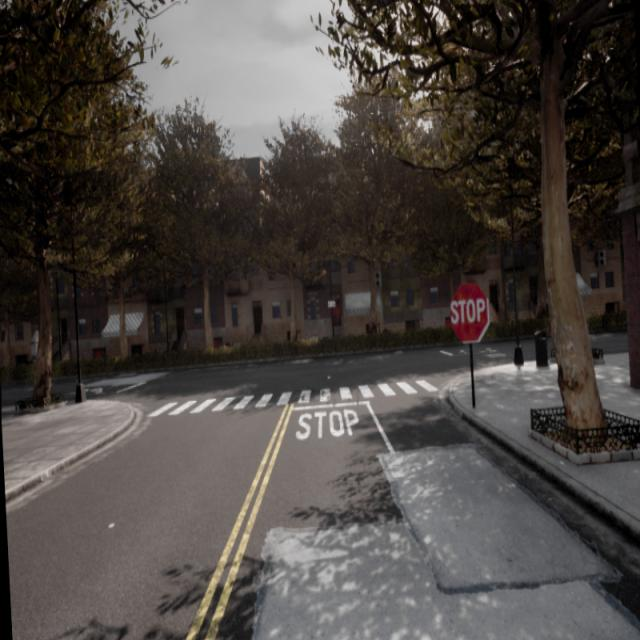stop sign: (446, 278, 492, 344), (449, 296, 486, 326)
